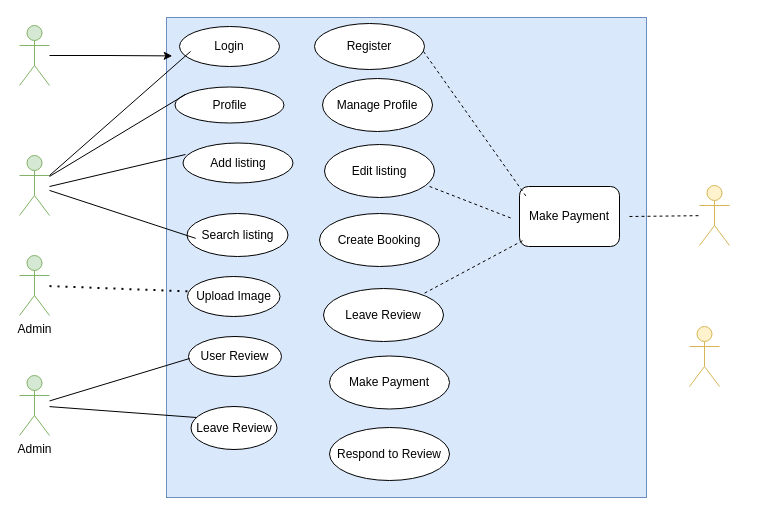
Image size: 780x515. Some labels were removed from this diagram. Here are the shapes that lost their labels. From the top down, the box of each, then its label:
(18, 24, 50, 86): Guest
(18, 154, 50, 216): Host
(698, 184, 730, 246): Payment Gateway
(688, 326, 720, 386): Notification Service
